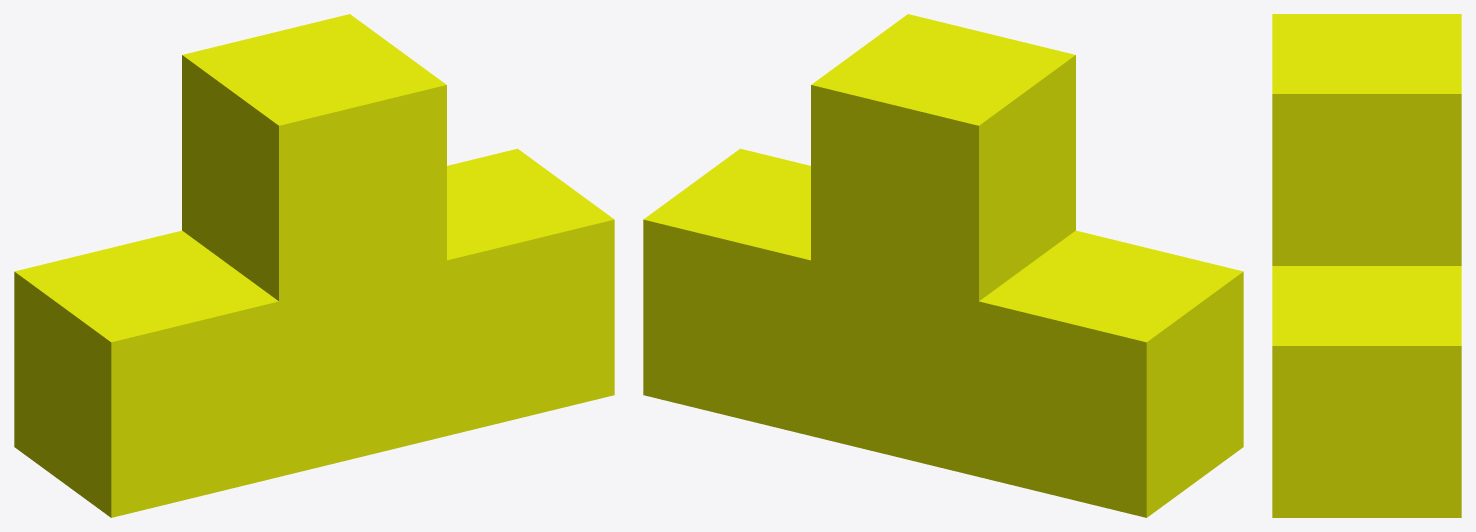
File: Block_T.fbx
3 renders of one model, left to right at view 1: azimuth 30°, elevation 25°; view 2: azimuth 150°, elevation 25°; view 3: azimuth 270°, elevation 25°, orthographic. The views are drawn at different scales.
Parts seen in each view (by area): view 1: pCube2; view 2: pCube2; view 3: pCube2.
Part boxes in pixels (x1=…): pCube2: x1=14, y1=14, x2=614, y2=517; pCube2: x1=643, y1=14, x2=1243, y2=517; pCube2: x1=1272, y1=14, x2=1461, y2=517.
Size of the model in its own units: 3 by 2 by 1.
